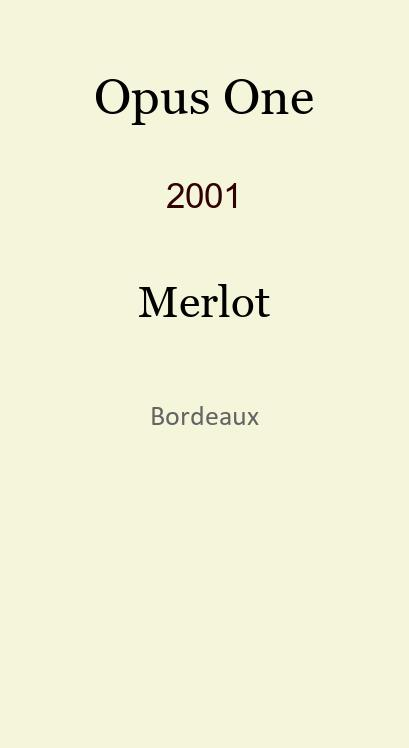brand: (94, 68, 314, 114)
region: (150, 404, 259, 423)
variety: (138, 276, 270, 309)
vintage: (166, 176, 242, 201)
